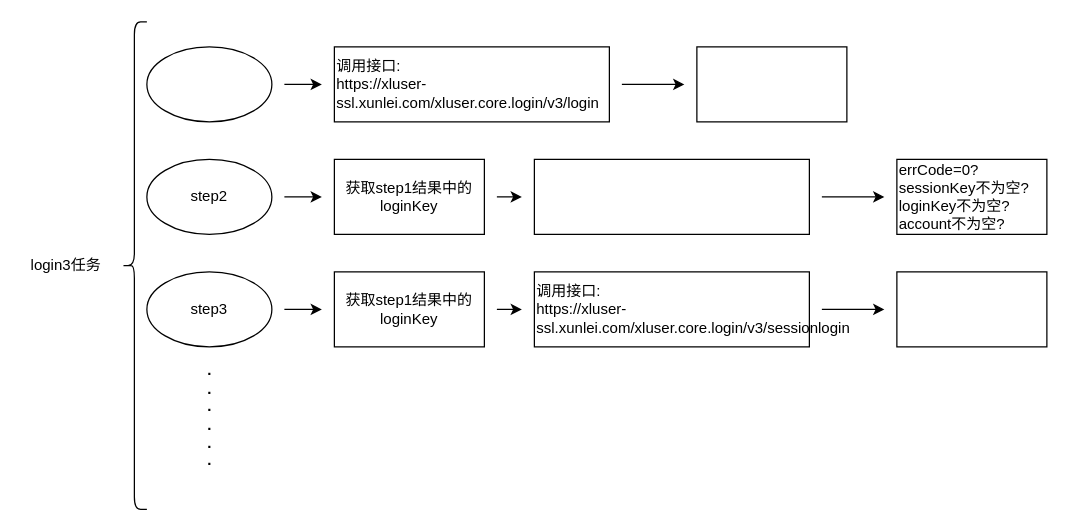
The diagram is 1069 pixels wide and 531 high, and some of its shapes have lost their labels. Here are the shapes that lost their labels. From the top down, the centre of each, then its label:
point (209, 84): step1
point (771, 84): errCode=0? sessionKey不为空? loginKey不为空?
point (671, 196): 调用接口: https://xluser-ssl.xunlei.com/xluser.core.login/v3/loginkey
point (971, 309): errCode=0? sessionId不为空? loginKey不为空? account不为空?
